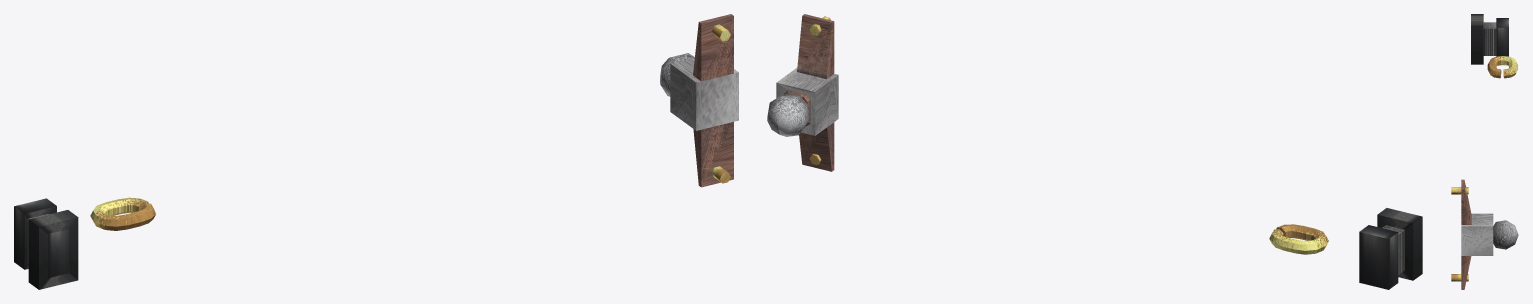
File: chain.FBX
The picture shows the model from 3 angles, left to right: view 1: azimuth 30°, elevation 25°; view 2: azimuth 150°, elevation 25°; view 3: azimuth 270°, elevation 25°; orthographic projection. The views are drawn at different scales.
Parts seen in each view (by area): view 1: Box002, Object001, Box001, Circle001, Sphere001; view 2: Box002, Object001, Box001, Sphere001, Circle001; view 3: Box001, Box002, Sphere001, Object001, Circle001, Object002, Cylinder001, Cylinder002.
Boxes of the visible parts, x1=… form: Box002: x1=14, y1=198, x2=78, y2=289; Object001: x1=693, y1=14, x2=733, y2=187; Box001: x1=670, y1=58, x2=738, y2=130; Circle001: x1=90, y1=197, x2=155, y2=230; Sphere001: x1=660, y1=53, x2=694, y2=96; Box002: x1=1359, y1=208, x2=1422, y2=289; Object001: x1=784, y1=14, x2=834, y2=171; Box001: x1=776, y1=67, x2=838, y2=135; Sphere001: x1=767, y1=93, x2=810, y2=136; Circle001: x1=1269, y1=224, x2=1328, y2=254; Box001: x1=1461, y1=213, x2=1493, y2=255; Box002: x1=1471, y1=14, x2=1508, y2=64; Sphere001: x1=1493, y1=220, x2=1518, y2=249; Object001: x1=1461, y1=179, x2=1471, y2=289; Circle001: x1=1487, y1=56, x2=1517, y2=78; Object002: x1=1483, y1=22, x2=1496, y2=55; Cylinder001: x1=1451, y1=187, x2=1468, y2=194; Cylinder002: x1=1451, y1=274, x2=1468, y2=281.
Size of the model in its own units: 964 by 218 by 132.
5 materials, 5 textured.
